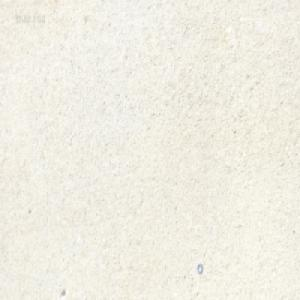Washer: (196, 263, 203, 274)
